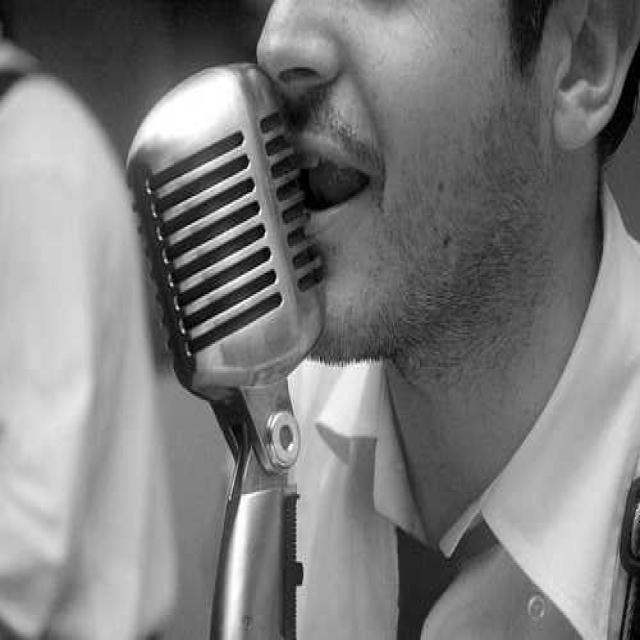microphone: (127, 63, 325, 408)
